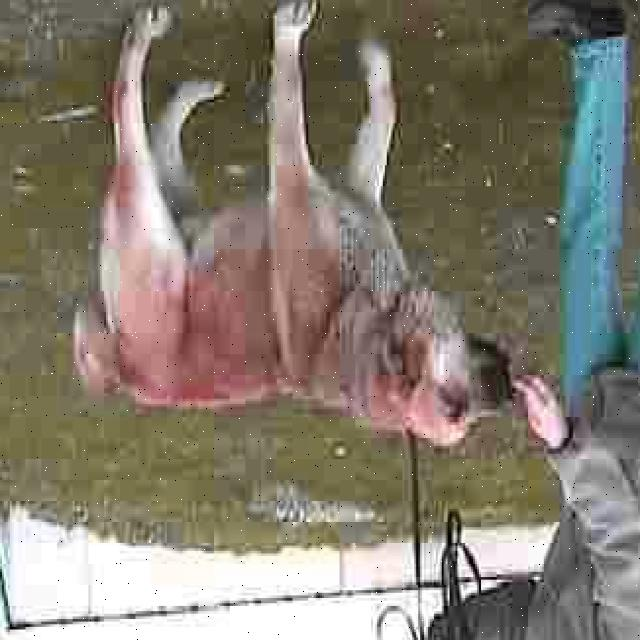Dog: (355, 285, 518, 476)
